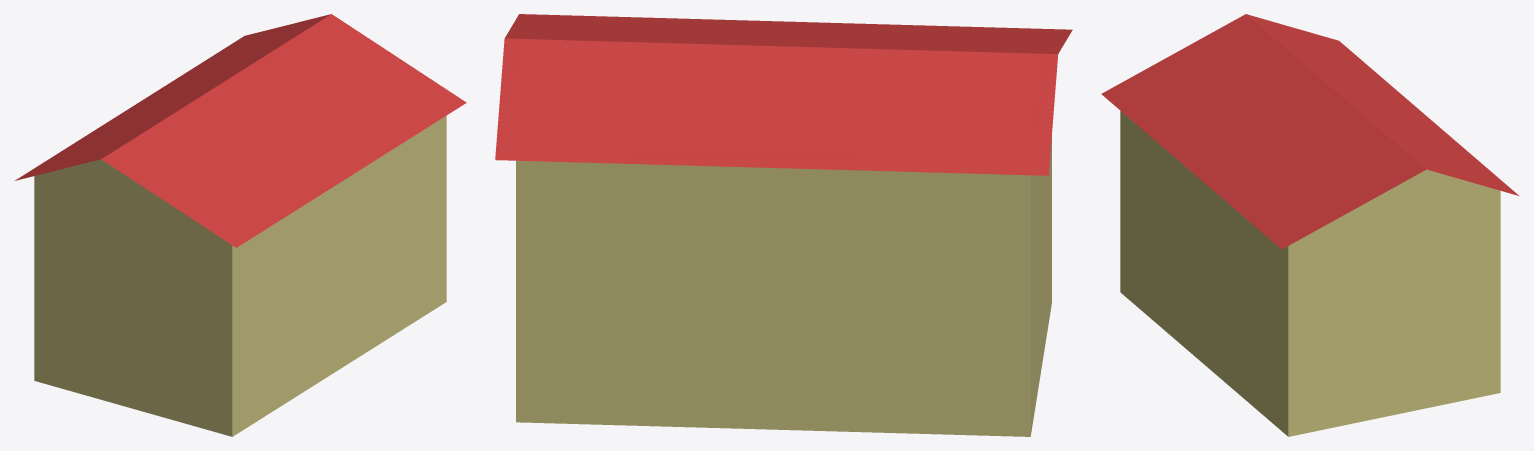
3 views of the same model, side by side, from view 1: azimuth 30°, elevation 25°; view 2: azimuth 150°, elevation 25°; view 3: azimuth 270°, elevation 25° (orthographic). The views are drawn at different scales.
Size of the model in its own units: 16.87 by 14.57 by 9.43.
